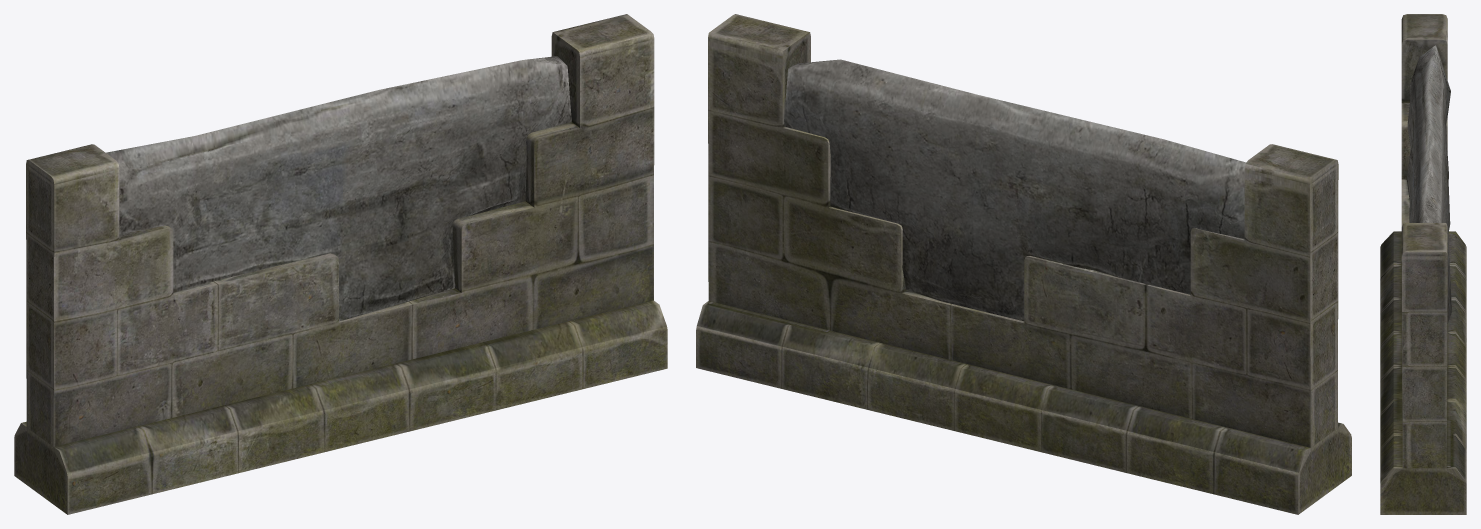
The model's file is restored-wall.glb.
3 views of the same model, side by side, from view 1: azimuth 30°, elevation 25°; view 2: azimuth 150°, elevation 25°; view 3: azimuth 270°, elevation 25° (orthographic). The views are drawn at different scales.
Parts seen in each view (by area): view 1: restored_wall; view 2: restored_wall; view 3: restored_wall.
Boxes of the visible parts, bbox=[...] form: restored_wall: bbox=[14, 14, 667, 514]; restored_wall: bbox=[696, 14, 1351, 514]; restored_wall: bbox=[1380, 14, 1466, 514].
Size of the model in its own units: 4.85 by 2.52 by 0.7483.
1 material, 1 textured.
